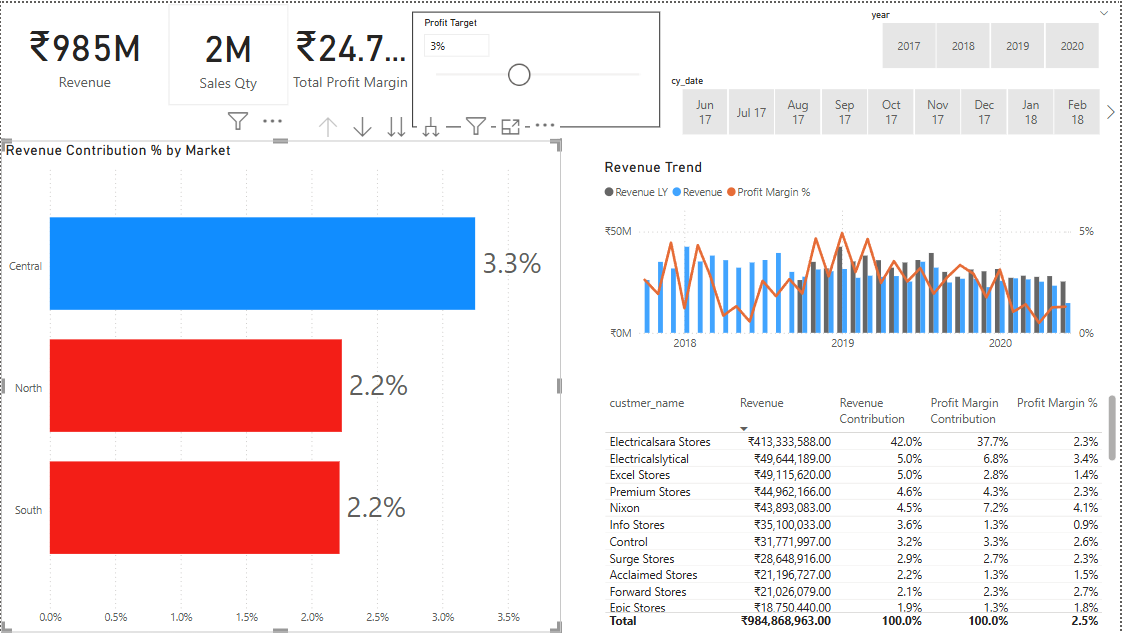

This screenshot's page, from the dashboard's own definition file:
{"tool":"powerbi","page":{"name":"Performance Insights","canvas":[1280,720],"ordinal":2},"visuals":[{"type":"card","fields":{"Values":["BaseMeasures.Revenue"]},"box":[0,0,191.7,116.7],"z":0},{"type":"card","fields":{"Values":["BaseMeasures.Sales Qty"]},"box":[191.7,1.7,136.7,115],"z":1000},{"type":"slicer","fields":{"Values":["sales date.year"]},"box":[981.7,1.7,296.7,80],"z":3000},{"type":"slicer","fields":{"Values":["sales date.cy_date"]},"box":[753.3,76.7,526.7,80],"z":4000},{"type":"clusteredBarChart","title":"Revenue Contribution % by Market","fields":{"Category":["sales markets.zone","sales markets.markets_name","sales customers.custmer_name"],"Y":["BaseMeasures.Profit Margin %"]},"box":[0,156.7,640,563.3],"z":5000},{"type":"tableEx","title":"Top 5 Customers By Revenue","fields":{"Values":["sales customers.custmer_name","BaseMeasures.Revenue","BaseMeasures.Revenue Contribution %","BaseMeasures.Profit Margin Contribution","BaseMeasures.Profit Margin %"]},"box":[685,443.3,595,276.7],"z":6000},{"type":"lineClusteredColumnComboChart","title":"Revenue Trend","fields":{"Category":["sales date.cy_date"],"Y":["BaseMeasures.Revenue LY","BaseMeasures.Revenue"],"Y2":["BaseMeasures.Profit Margin %"]},"box":[685,176.7,570,230],"z":8000},{"type":"card","fields":{"Values":["BaseMeasures.Total Profit Margin"]},"box":[328.3,0,141.7,116.7],"z":9000},{"type":"slicer","fields":{"Values":["Profit Target.Profit Target"]},"box":[470,10,283.3,131.7],"z":9001}]}

Visuals, with their boxes on the page's 1280x720 design canvas (x1, y1, x2, y2). These are canvas units, not pixel positions in the 1122x633 screenshot, which may show the page scaled, cropped or inside an application window:
card - BaseMeasures.Revenue: {"left": 0, "top": 0, "right": 192, "bottom": 117}
card - BaseMeasures.Sales Qty: {"left": 192, "top": 2, "right": 328, "bottom": 117}
slicer - sales date.year: {"left": 982, "top": 2, "right": 1278, "bottom": 82}
slicer - sales date.cy_date: {"left": 753, "top": 77, "right": 1280, "bottom": 157}
"Revenue Contribution % by Market" clusteredBarChart: {"left": 0, "top": 157, "right": 640, "bottom": 720}
"Top 5 Customers By Revenue" tableEx: {"left": 685, "top": 443, "right": 1280, "bottom": 720}
"Revenue Trend" lineClusteredColumnComboChart: {"left": 685, "top": 177, "right": 1255, "bottom": 407}
card - BaseMeasures.Total Profit Margin: {"left": 328, "top": 0, "right": 470, "bottom": 117}
slicer - Profit Target.Profit Target: {"left": 470, "top": 10, "right": 753, "bottom": 142}
